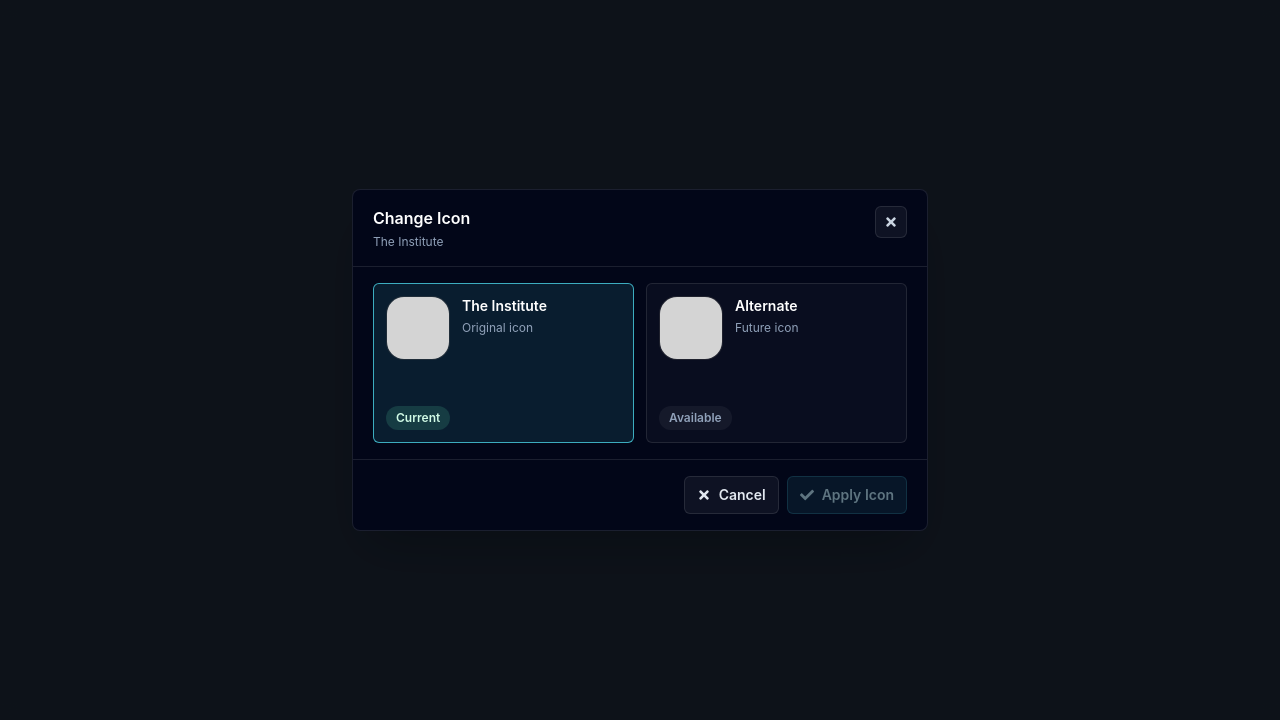
DesktopAppIconModal › selects and applies a different icon through the desktop bridge
The image size is (1280, 720).
Click the radio button labelled "Alternate Future icon Available" at (691, 328), box top-left (646, 283), bottom-right (907, 443)
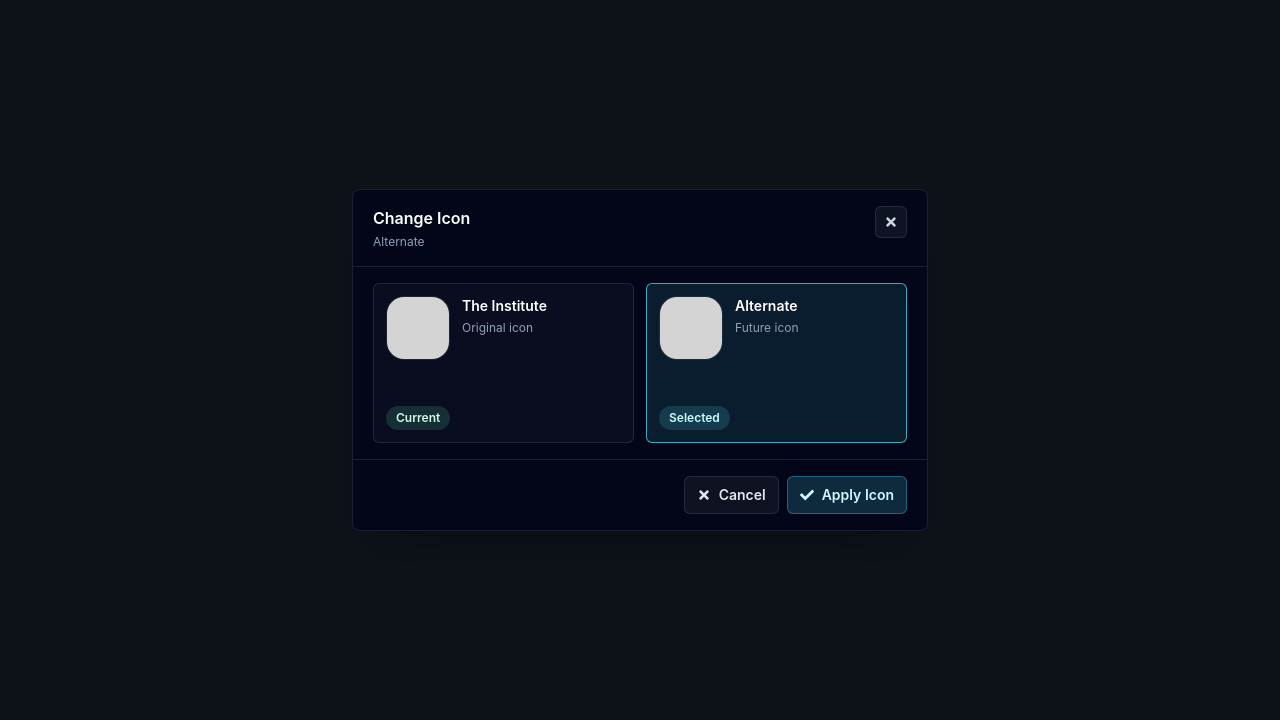
Click the button "Apply Icon" at (847, 495), box top-left (787, 476), bottom-right (907, 514)
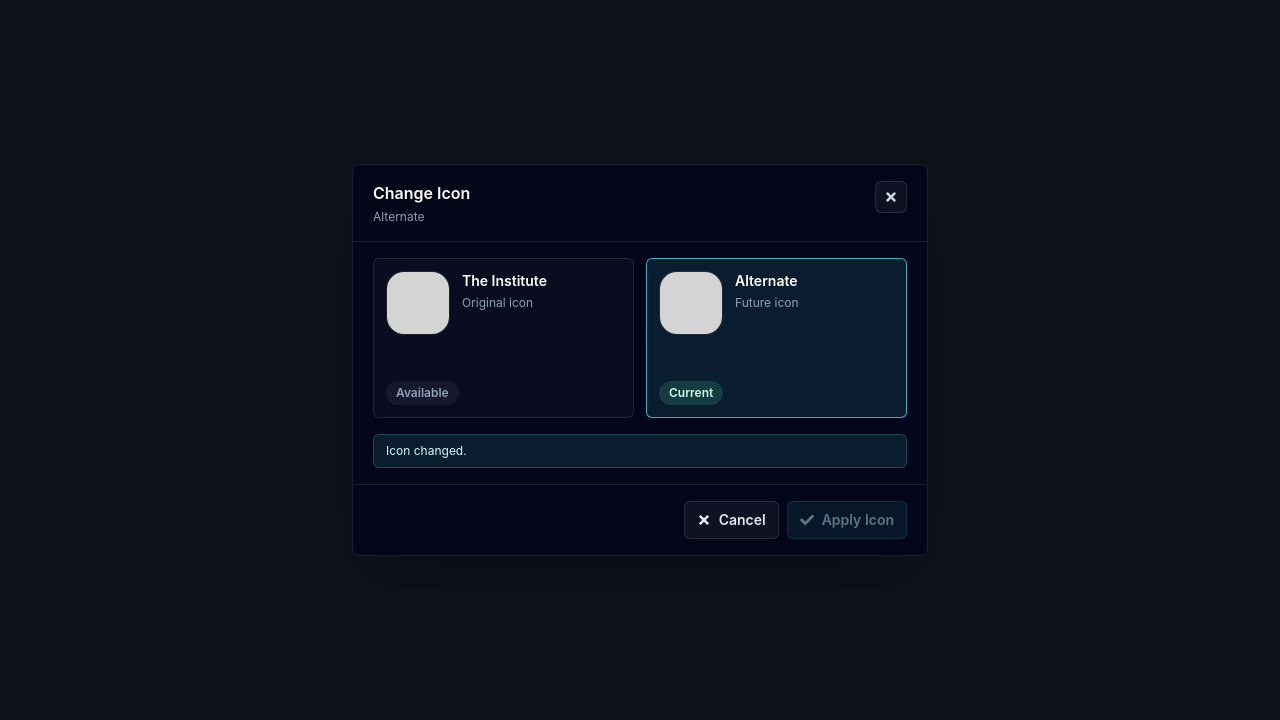
Now the text "Icon changed." is shown, box top-left (373, 434), bottom-right (907, 468)
